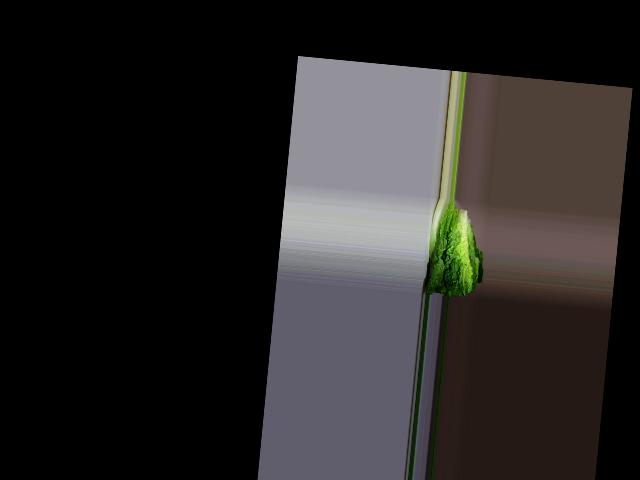lettuce: (422, 201, 482, 299)
